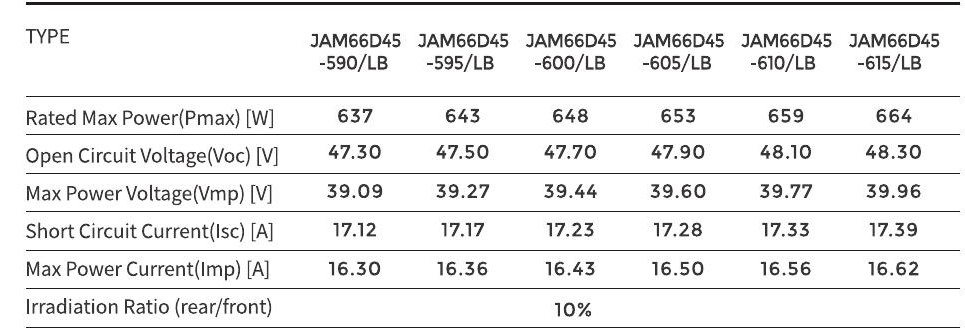table: (4, 1, 965, 335)
table column: (18, 6, 293, 332), (846, 6, 955, 332), (514, 6, 619, 332), (735, 5, 839, 332), (303, 4, 406, 331), (627, 3, 729, 332), (413, 6, 505, 332)
table row: (10, 8, 963, 93), (10, 212, 964, 248), (8, 137, 964, 171), (13, 291, 963, 325), (9, 176, 964, 209), (8, 101, 964, 132), (10, 254, 962, 284)
table spanning cell: (299, 291, 960, 327)
